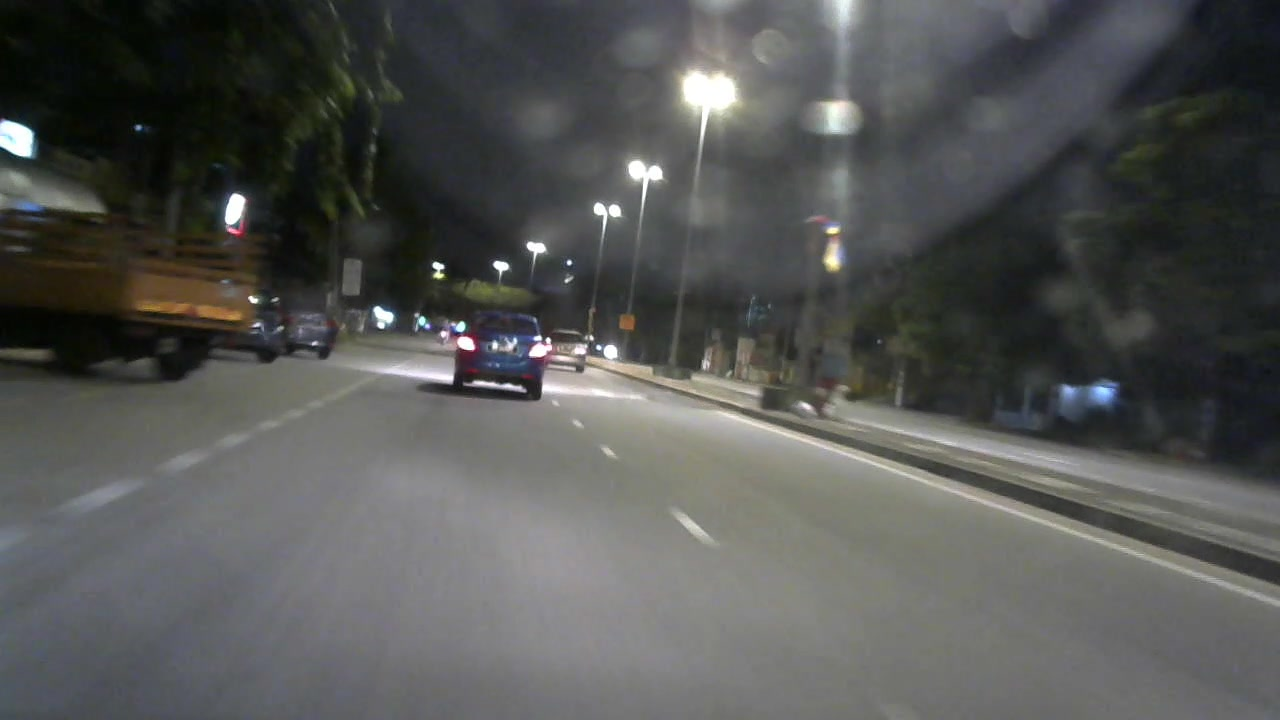Car: (443, 306, 549, 401), (282, 302, 343, 360), (249, 294, 288, 363), (539, 319, 587, 372)
